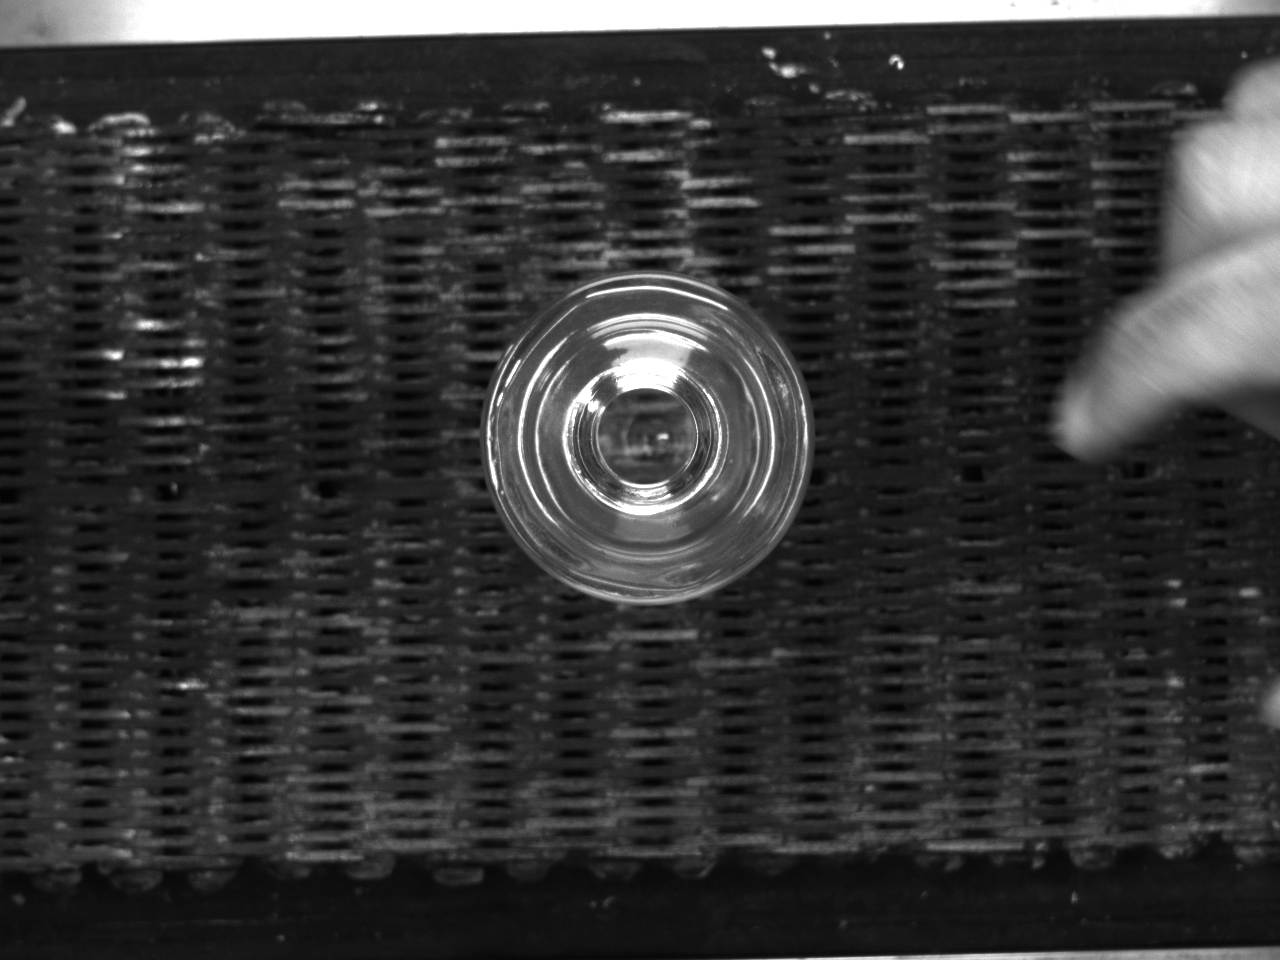bottleneck: (564, 358, 725, 515)
